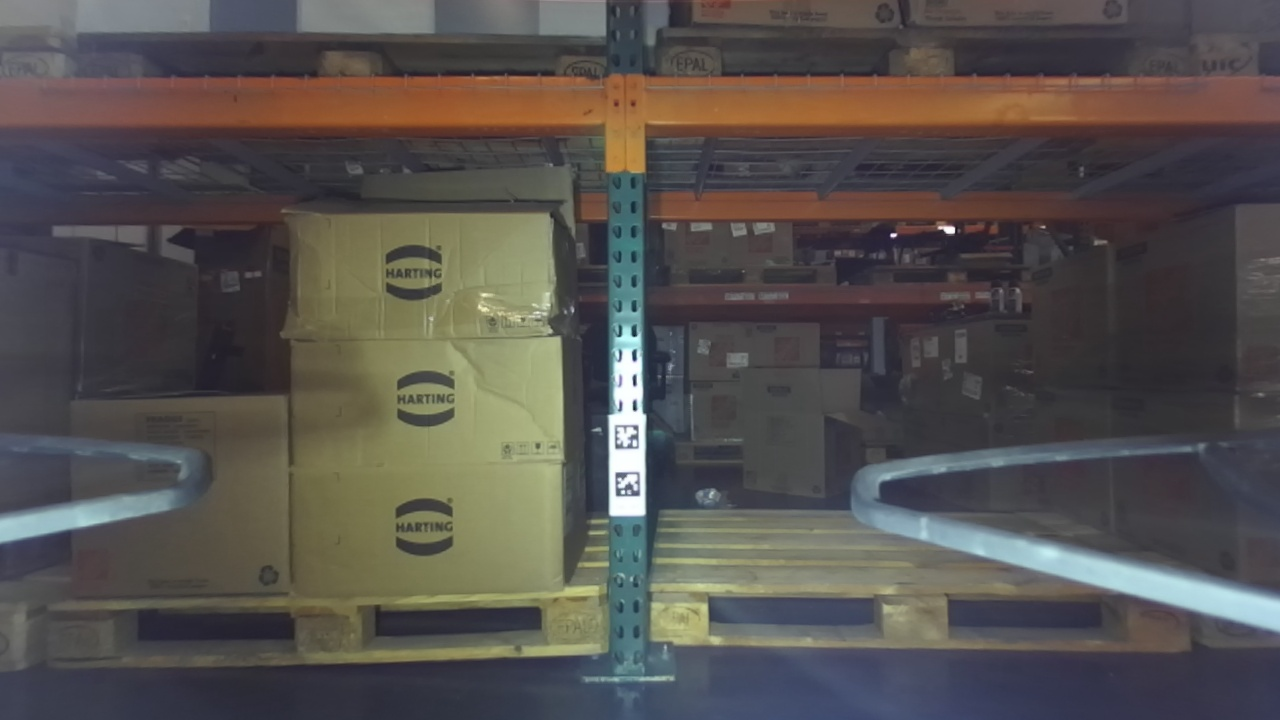box: (45, 383, 298, 594), (273, 180, 585, 341), (270, 319, 585, 476), (275, 447, 598, 593), (1096, 377, 1280, 591), (1098, 188, 1280, 403)
